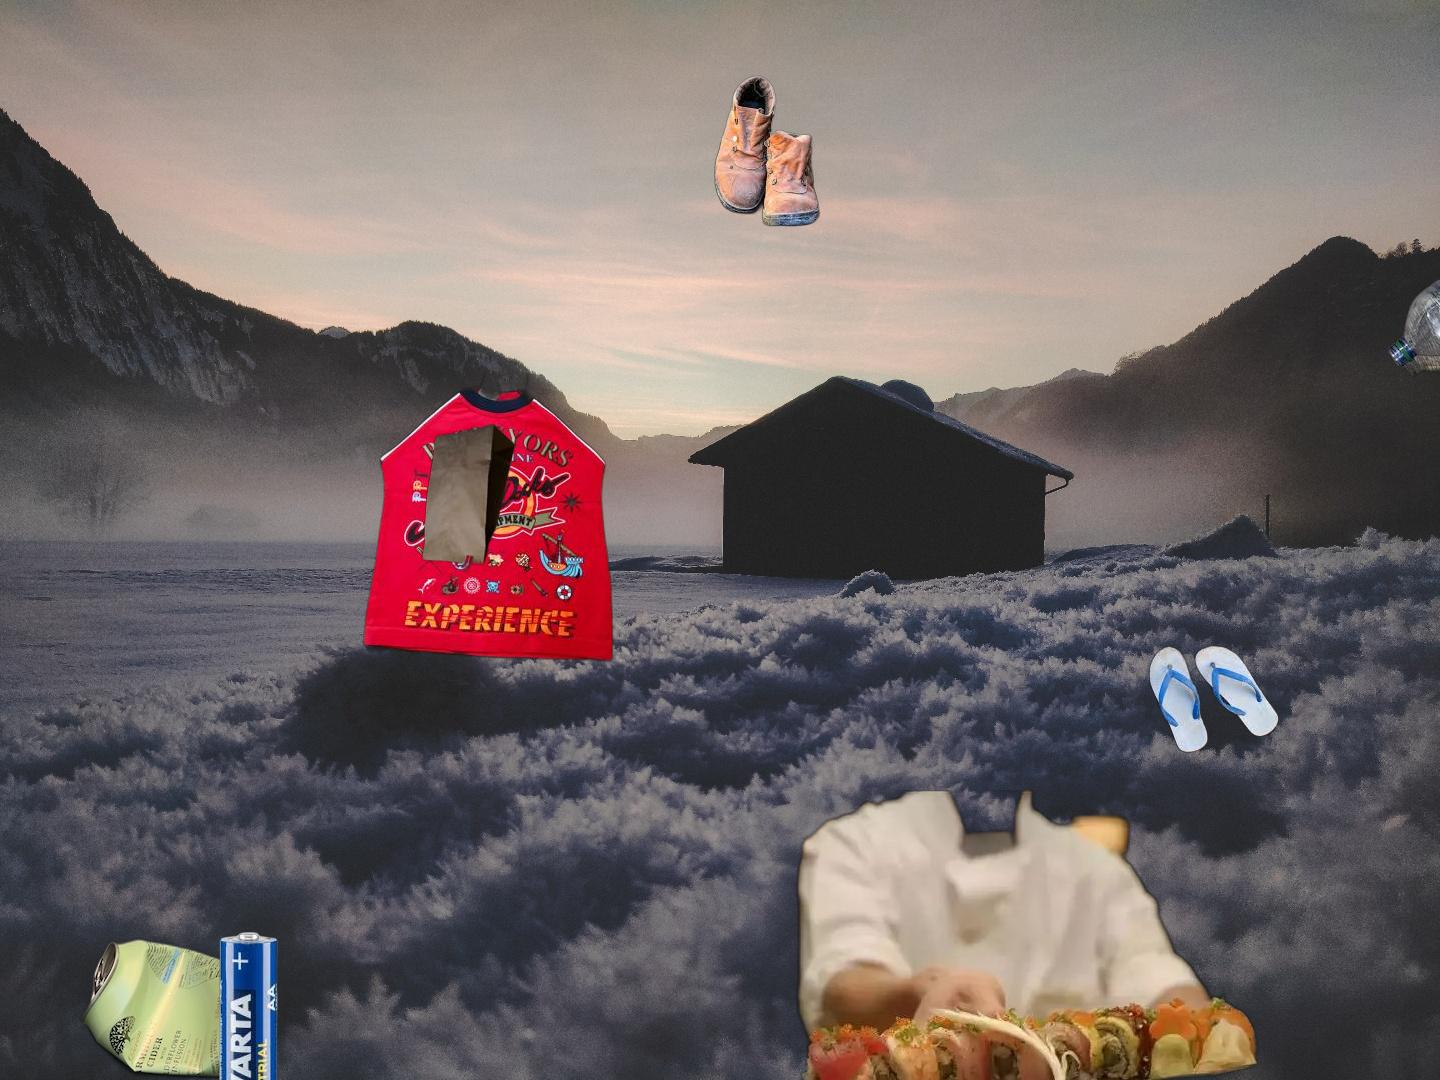battery: (215, 929, 280, 1080)
biological: (768, 790, 1265, 1080)
clothes: (361, 368, 617, 666)
metal-cans: (75, 933, 269, 1080)
paper-bag: (420, 423, 518, 575)
plastic-bottles: (1384, 188, 1440, 381)
shoes: (713, 73, 822, 229), (1146, 643, 1281, 756)
